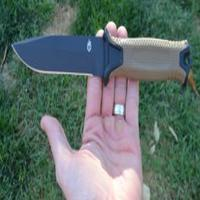knife: (7, 26, 193, 97)
